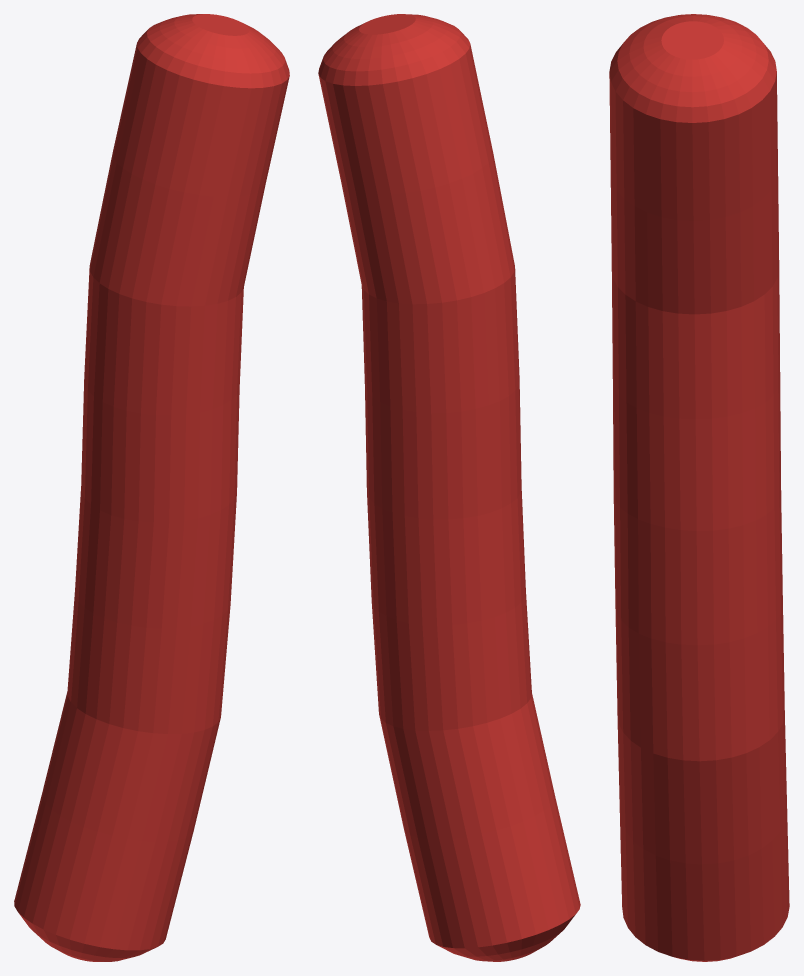
Rendered from hotdog04.fbx.
3 renders of one model, left to right at view 1: azimuth 30°, elevation 25°; view 2: azimuth 150°, elevation 25°; view 3: azimuth 270°, elevation 25°, orthographic. The views are drawn at different scales.
Visible parts, largest first — view 1: hotdog.004; view 2: hotdog.004; view 3: hotdog.004.
Part boxes in pixels (bbox=[...]): hotdog.004: bbox=[14, 14, 289, 961]; hotdog.004: bbox=[318, 14, 580, 961]; hotdog.004: bbox=[609, 14, 789, 961].
Bounding box in the file's own units: 368 × 1286 × 215.
